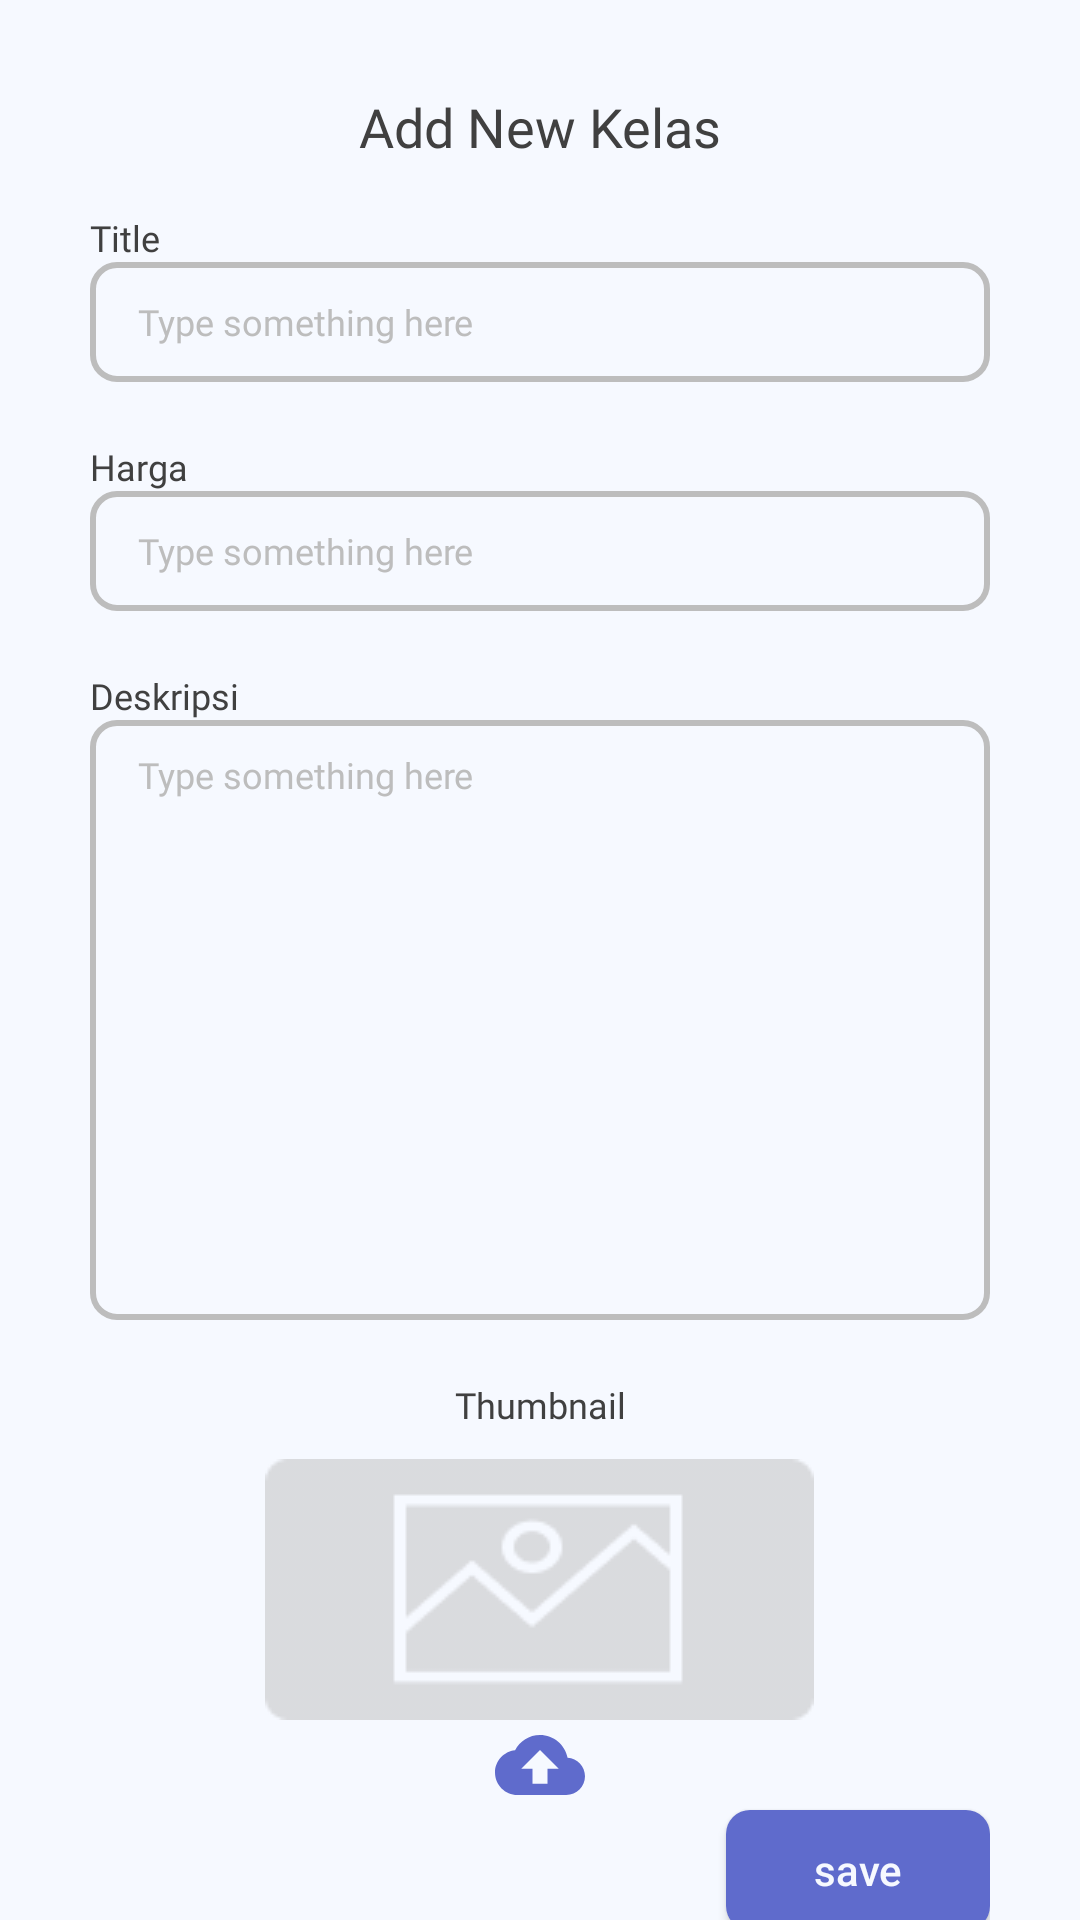

Named icons in this screenshot (1080px x 1920px) and their bounding boxes, {"x1": x1, "y1": y1, "x2": x2, "y2": y2}:
cloud upload: {"x1": 495, "y1": 1735, "x2": 585, "y2": 1795}
